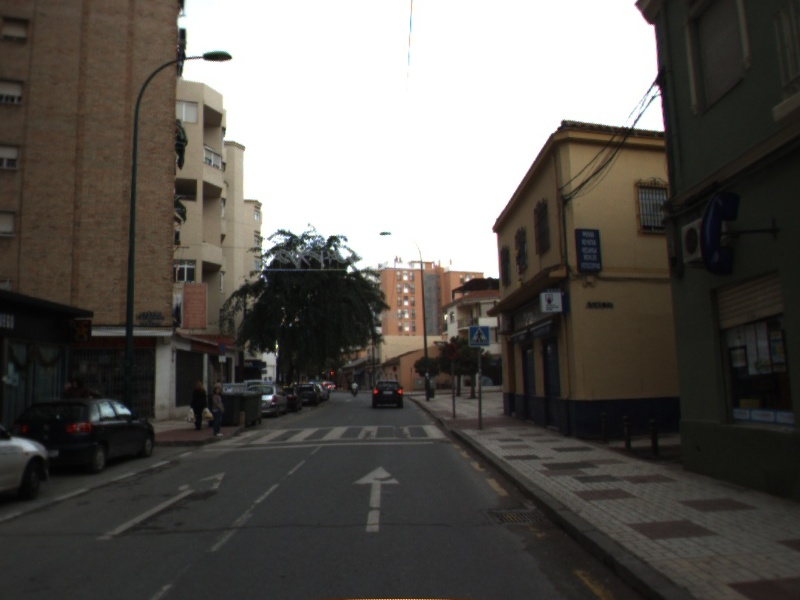STRAIGHT: (93, 470, 228, 543), (349, 464, 402, 535)
